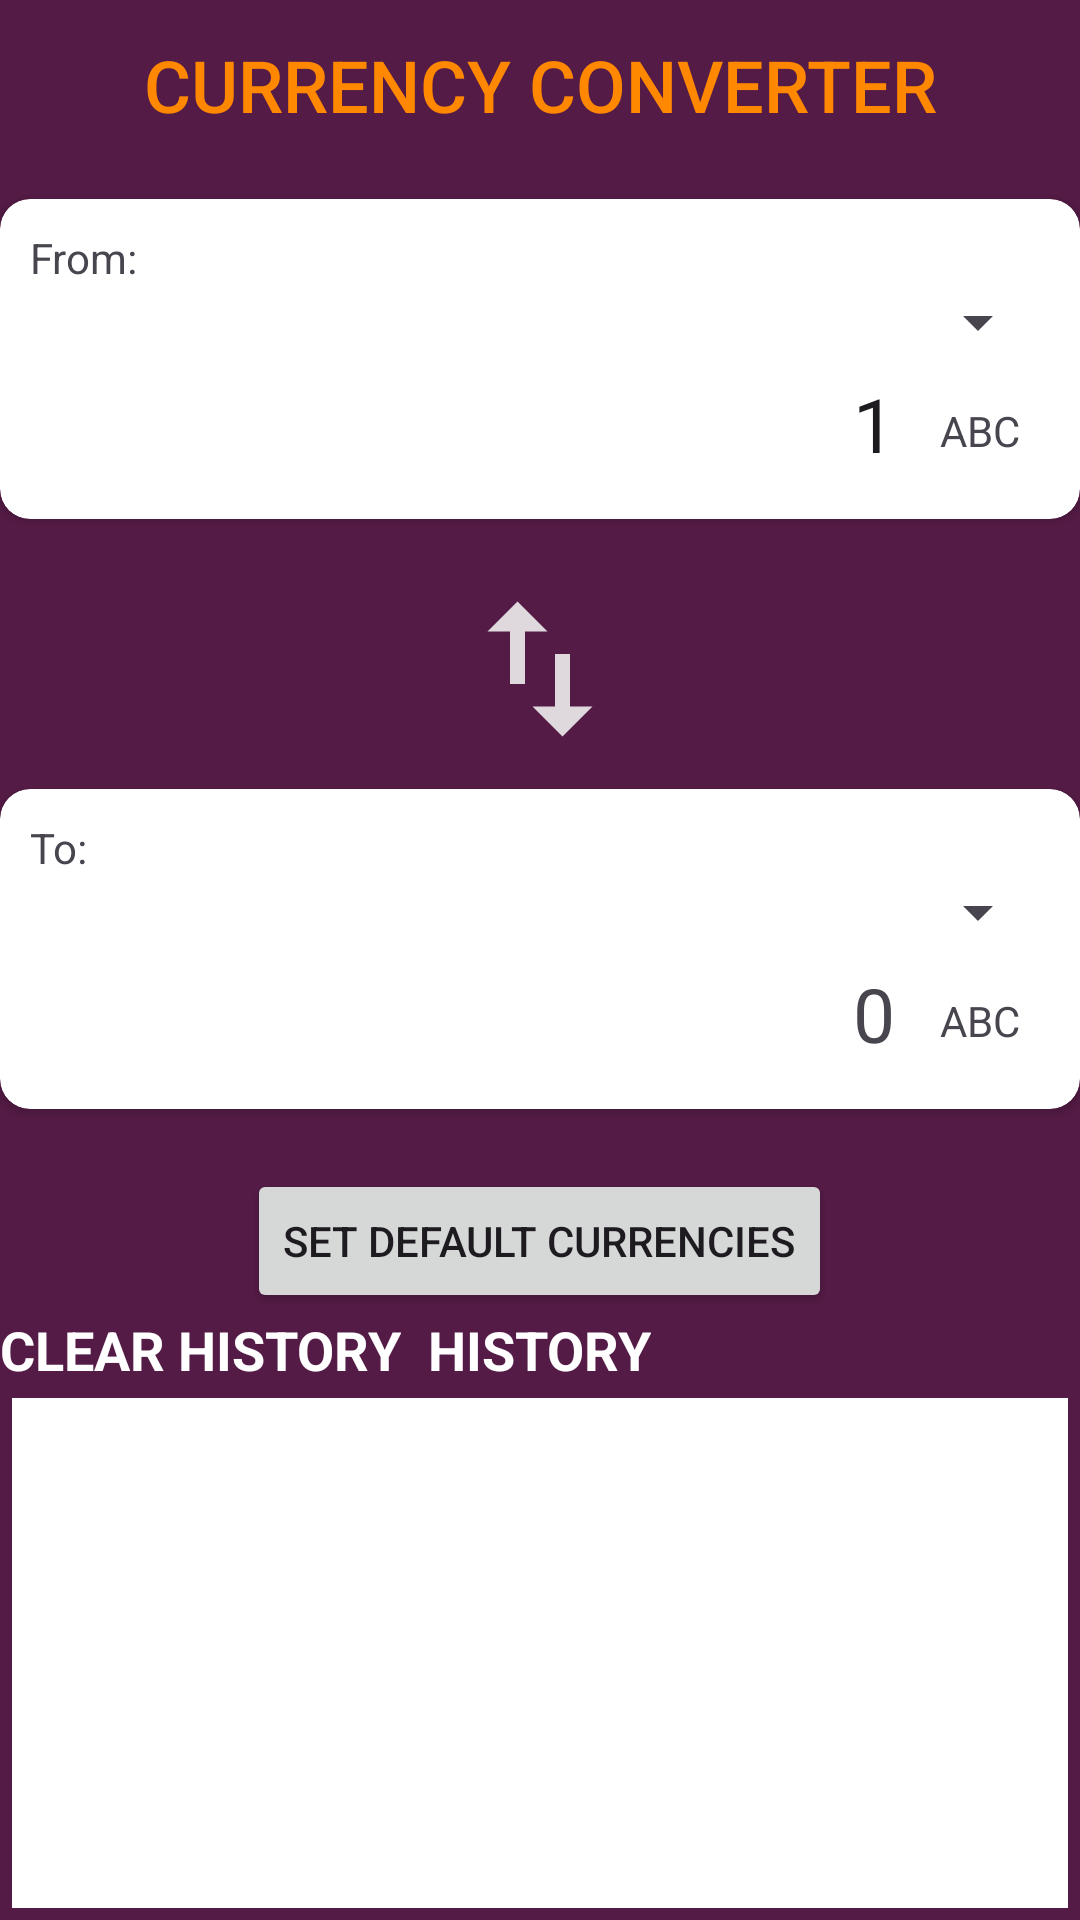

Icons on this 1080 x 1920 Android screen, each with its box as (x1, y1, x2, y2):
swap vert: (487, 601, 593, 737)
